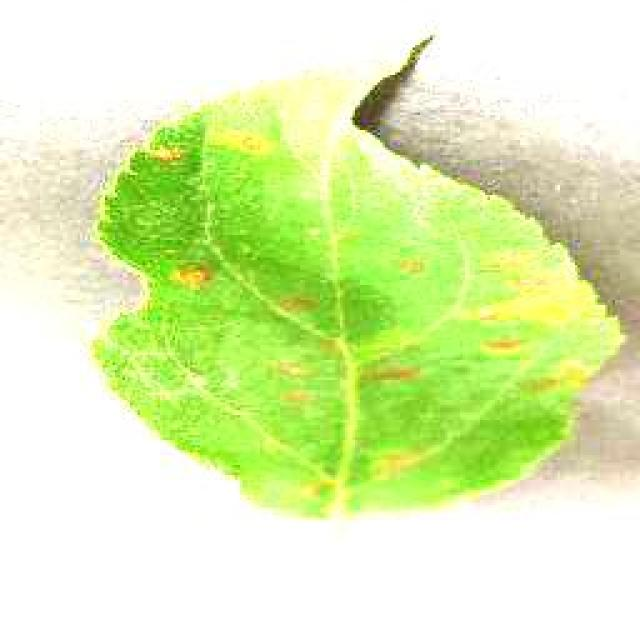apple healthy: (82, 35, 628, 520)
